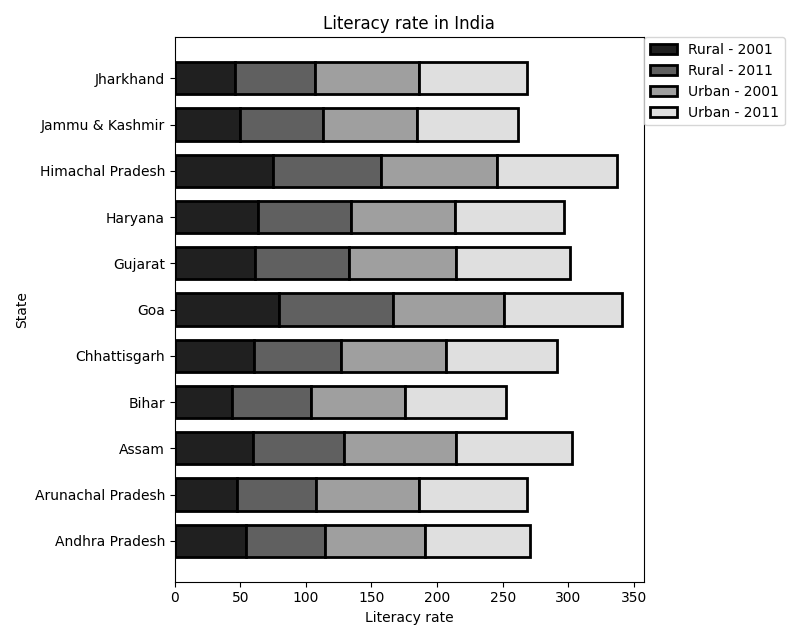canvas: (173, 48, 630, 570)
legend: (647, 40, 782, 123)
title: (314, 9, 506, 34)
x-axis: (171, 575, 654, 589)
x-labels: (161, 588, 649, 608)
x-title: (361, 609, 460, 630)
y-axis: (167, 29, 177, 590)
y-labels: (32, 60, 167, 575)
y-title: (10, 281, 31, 347)
